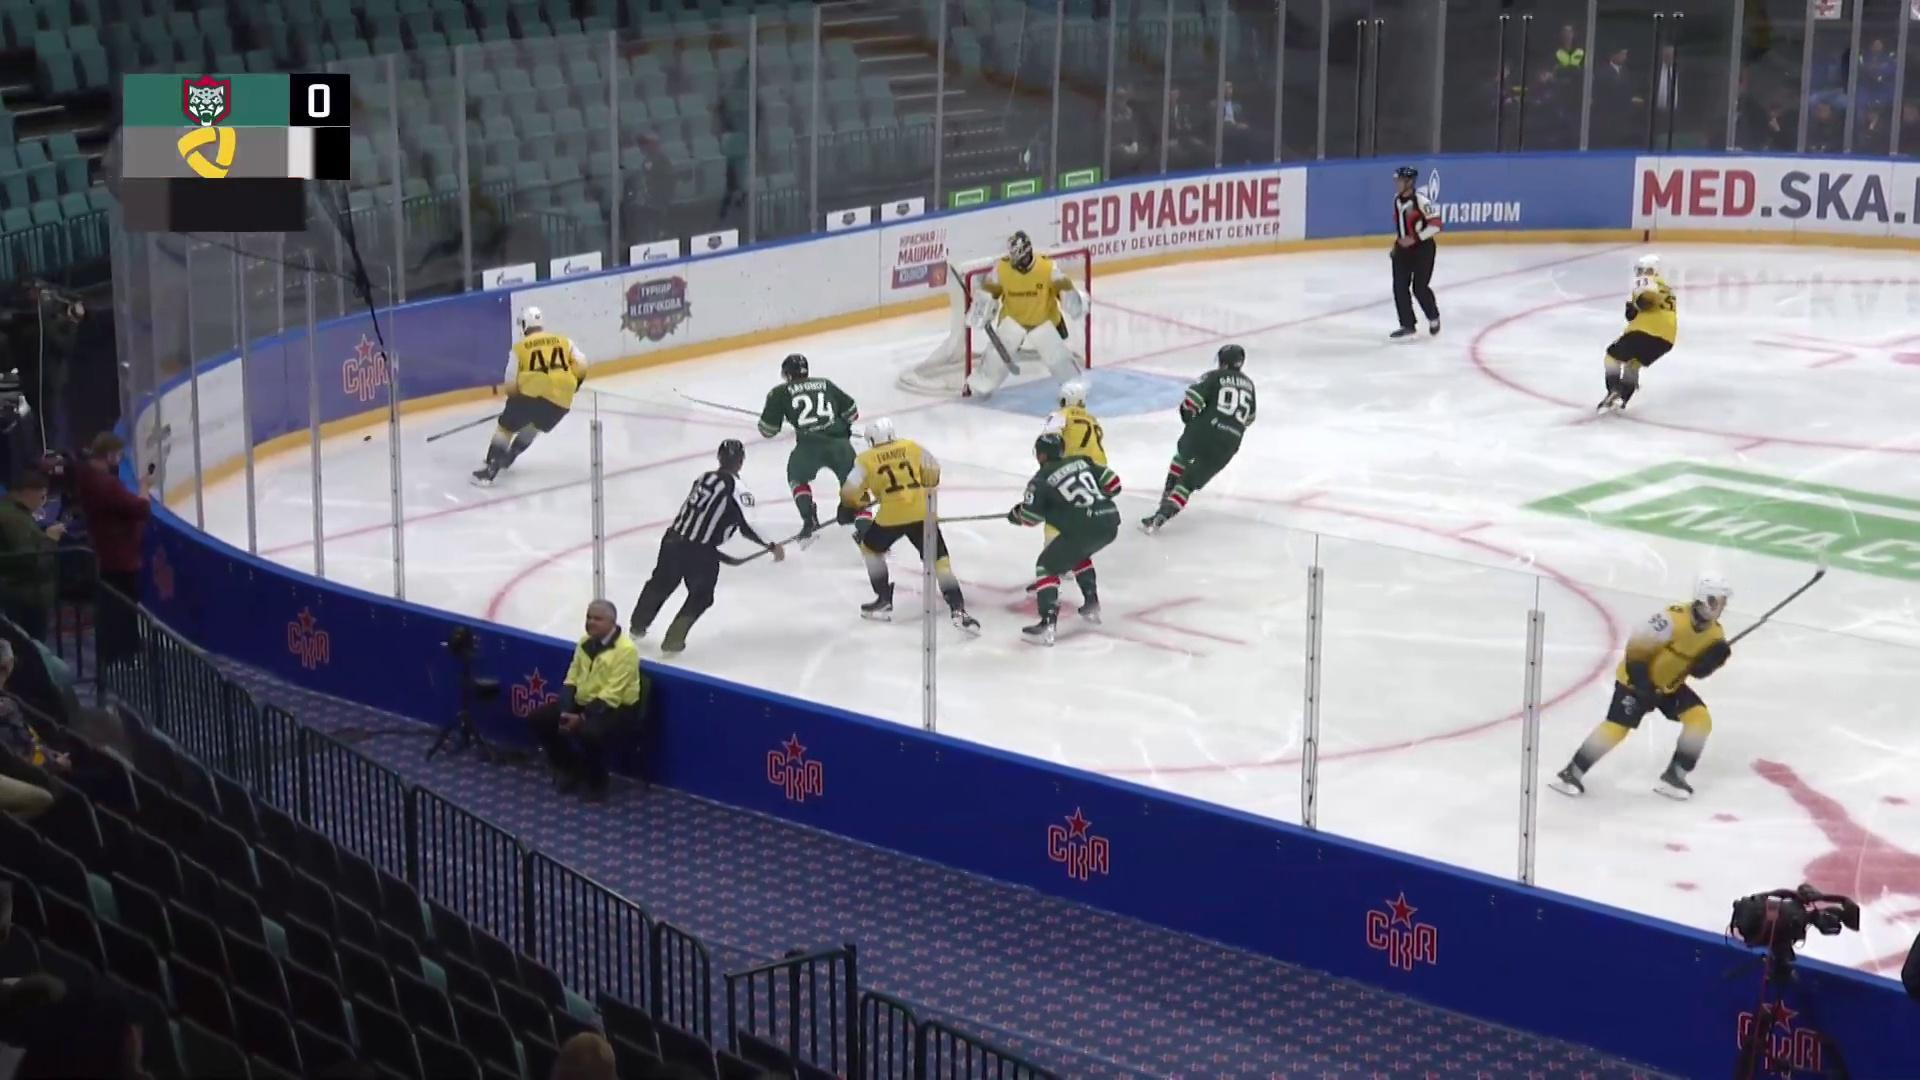ball: (363, 434, 373, 444)
